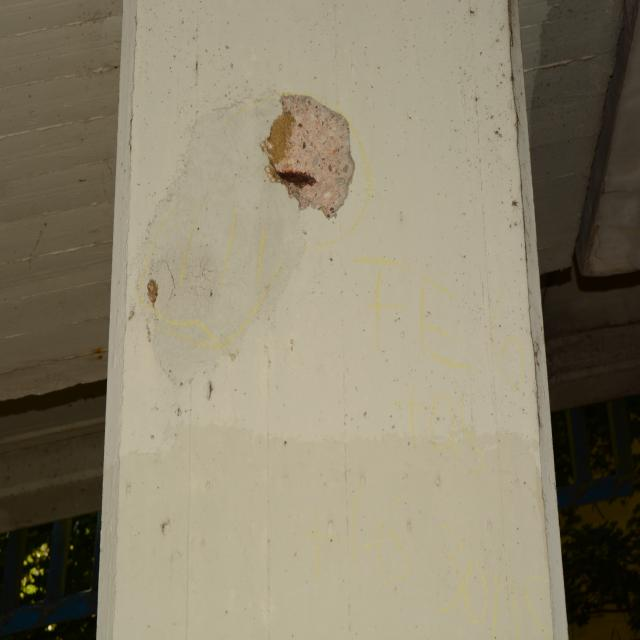corrosion: (274, 162, 325, 192)
